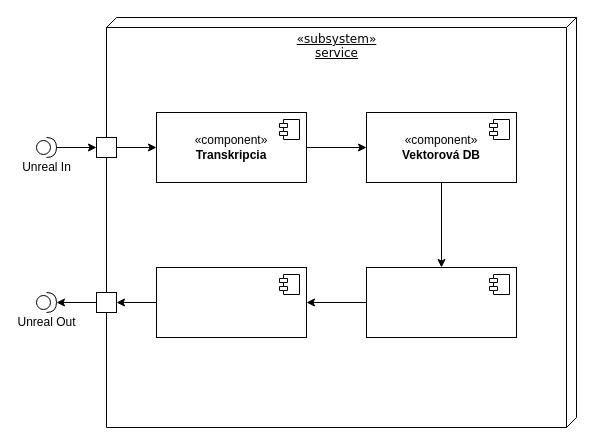
The diagram is 594 pixels wide and 445 high, and some of its shapes have lost their labels. Each missing label, with the centre of its shape:
"«component» Dopyt LLM" belongs at pixel 441 302.
"«component» Syntéza" belongs at pixel 231 302.
